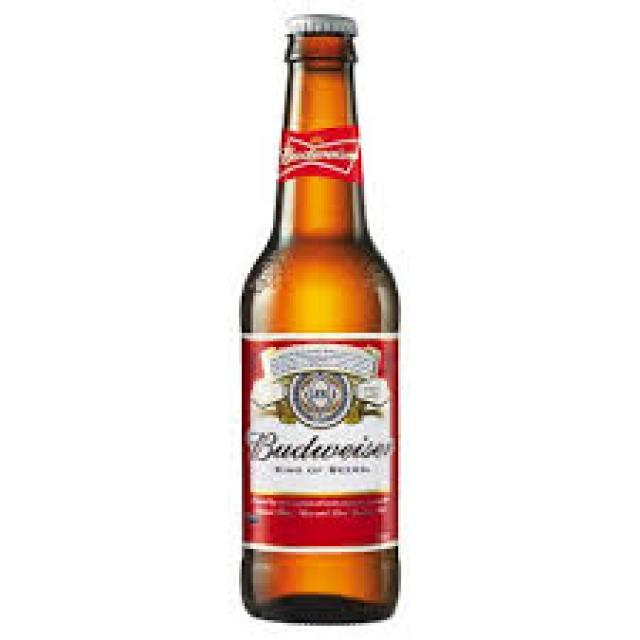glass: (239, 31, 401, 620)
metal: (279, 15, 353, 29)
